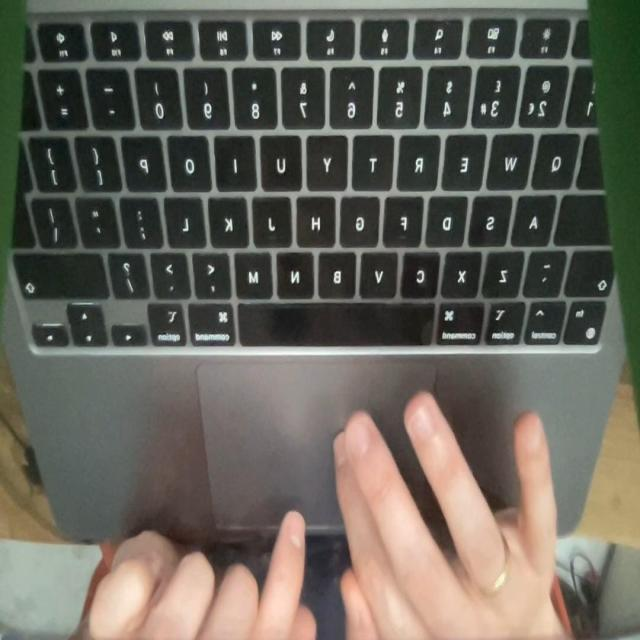keyboard-with-hands: (1, 0, 629, 537)
